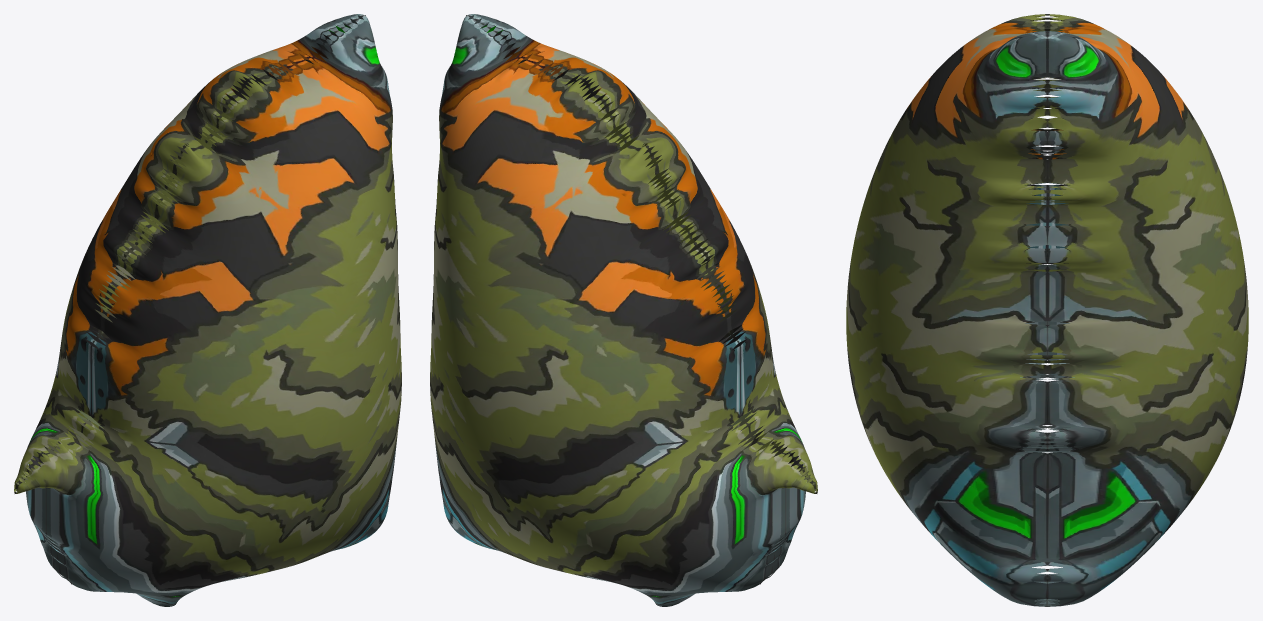
File: overgrown_wall.glb
The picture shows the model from 3 angles, left to right: view 1: azimuth 30°, elevation 25°; view 2: azimuth 150°, elevation 25°; view 3: azimuth 270°, elevation 25°; orthographic projection. The views are drawn at different scales.
Parts seen in each view (by area): view 1: overgrown_wall; view 2: overgrown_wall; view 3: overgrown_wall.
Boxes of the visible parts, x1=… form: overgrown_wall: x1=14, y1=14, x2=401, y2=606; overgrown_wall: x1=430, y1=14, x2=817, y2=606; overgrown_wall: x1=846, y1=14, x2=1248, y2=606.
Bounding box in the file's own units: 0.9801 × 1.32 × 0.8342.
Materials: 1 (1 with a texture image).
